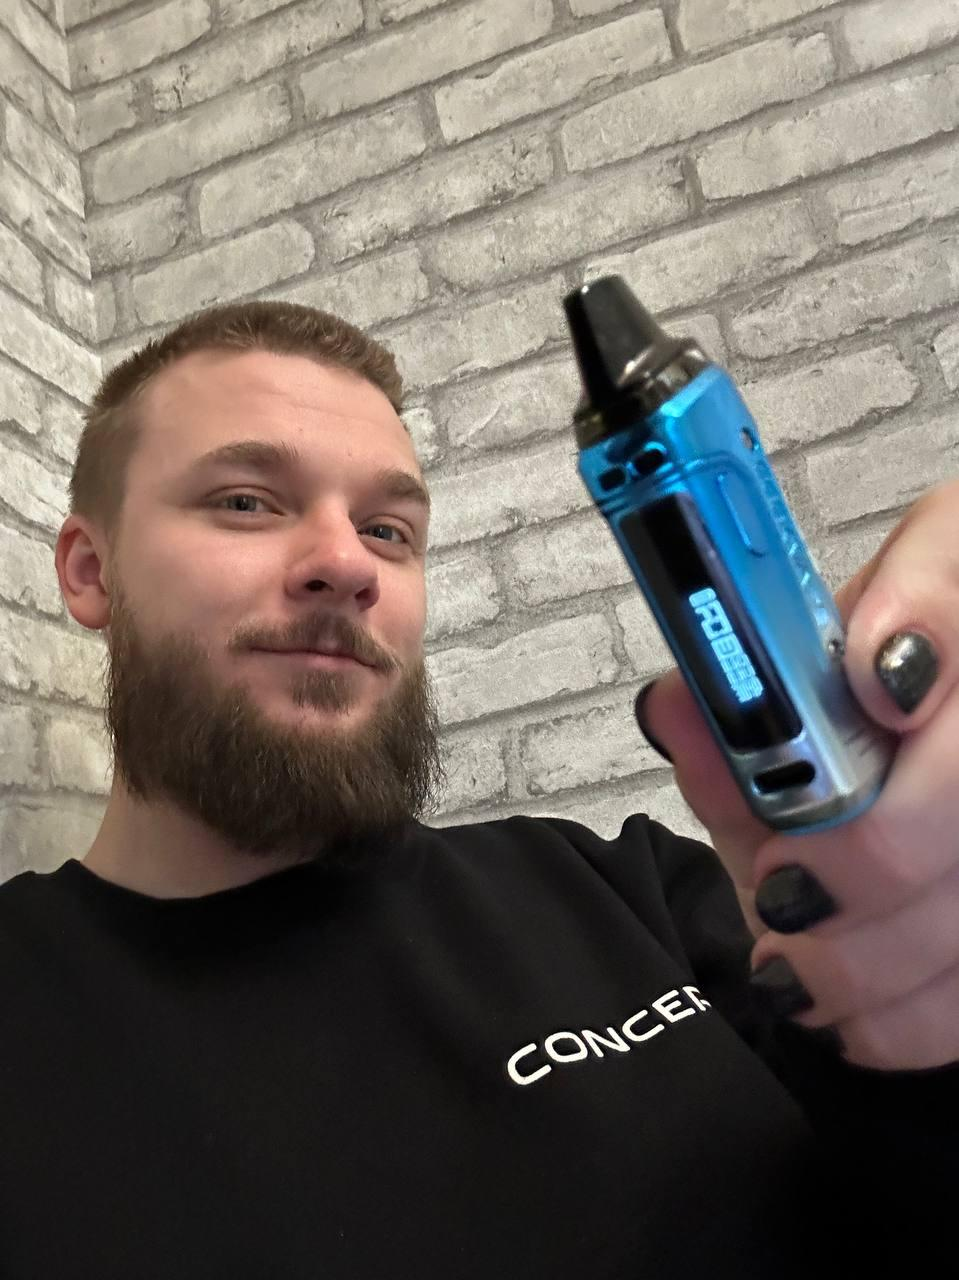Vape: (564, 278, 892, 836)
